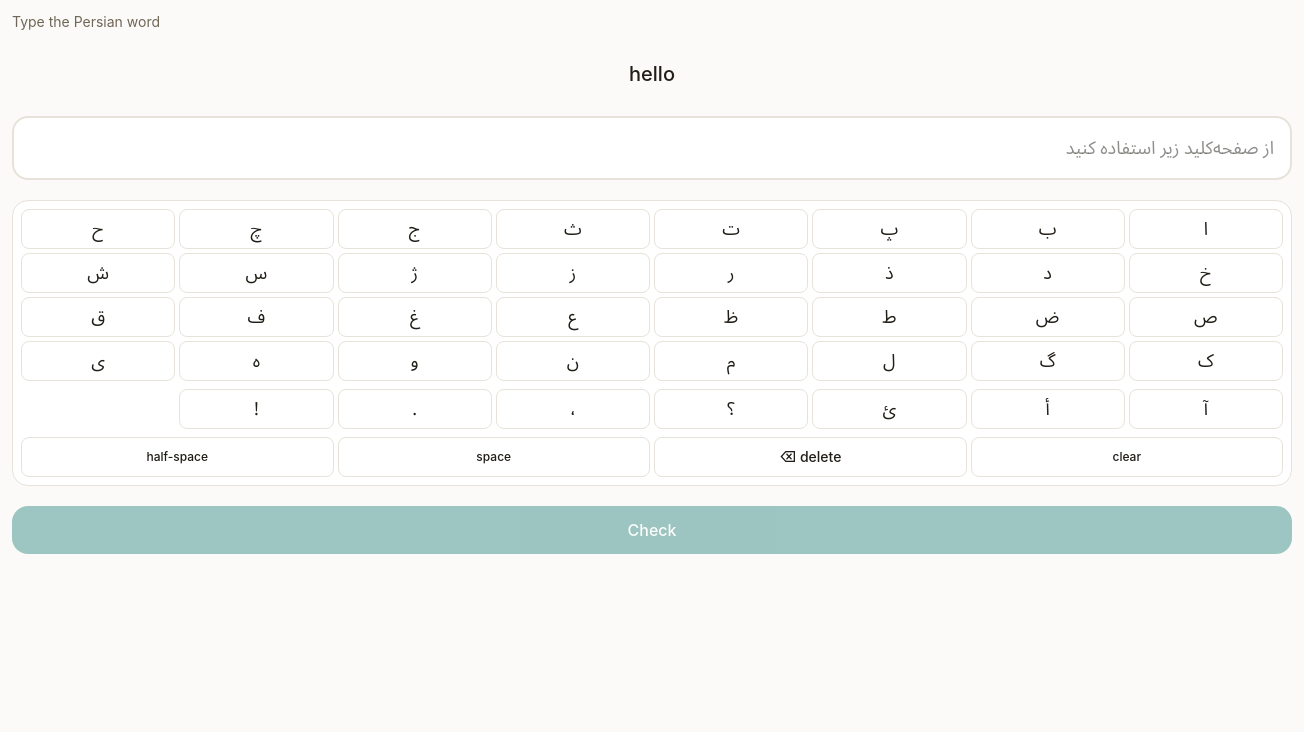
Test: TypeAnswerRunner + Persian keyboard composition › includes letter variants and punctuation missing from the base 32-letter keyboard, needed for real vocabulary like "آب" and "چطوری؟"
The width and height of the screenshot is (1304, 732).
Click the button with test id "kbd-key-alef-madda".
click(1206, 409)  # box [1129,389,1283,429]
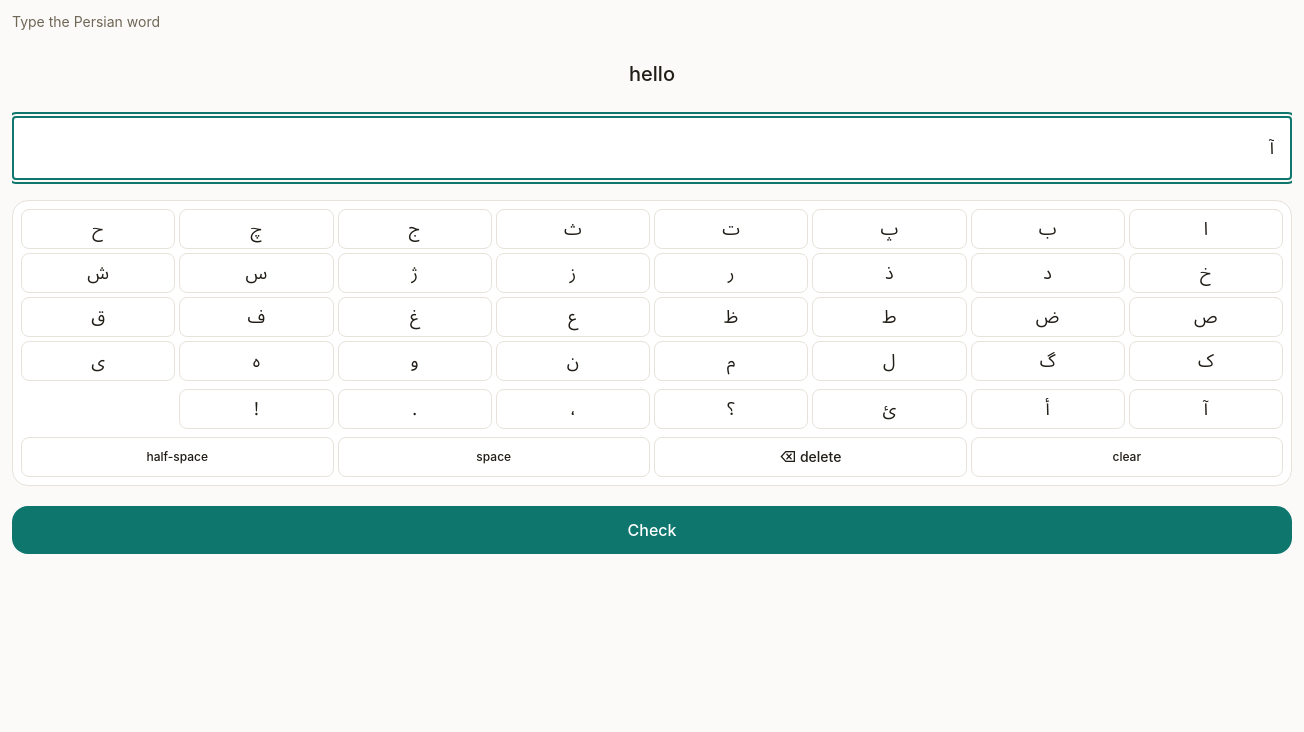
Expected: the field holds "آ", [12,116,1292,180]
Click the button with test id "kbd-key-question-mark".
click(731, 409)  # box [654,389,808,429]
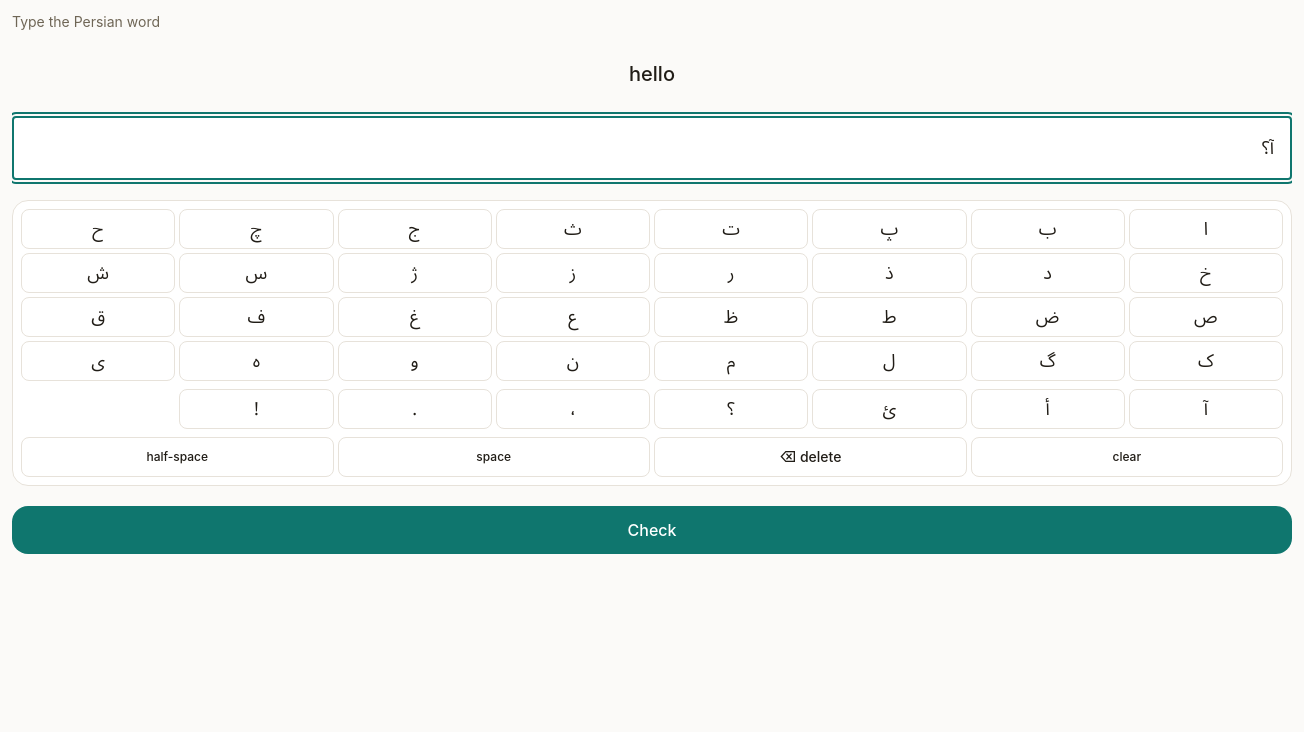
Expected: the field holds "آ؟", [12,116,1292,180]
